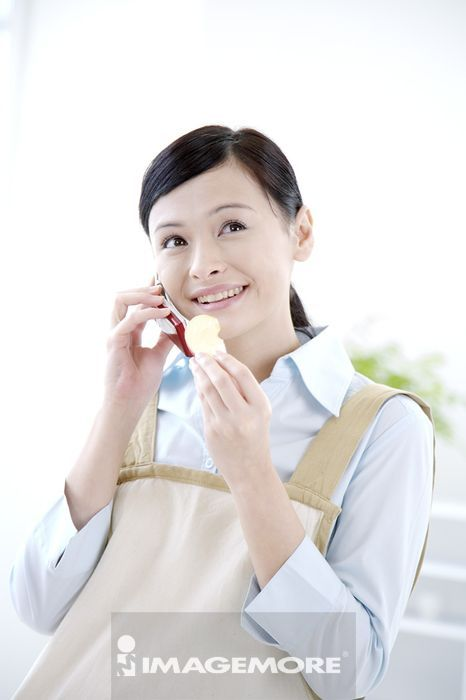talk: (93, 194, 262, 395)
